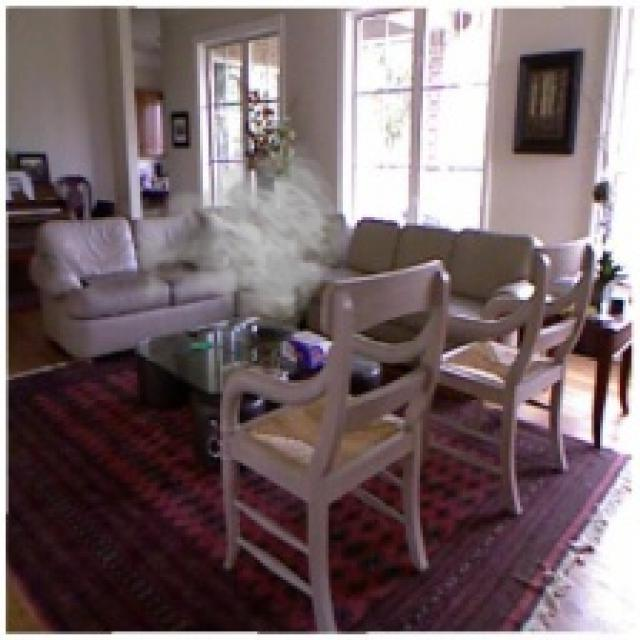smoke: (117, 140, 349, 340)
